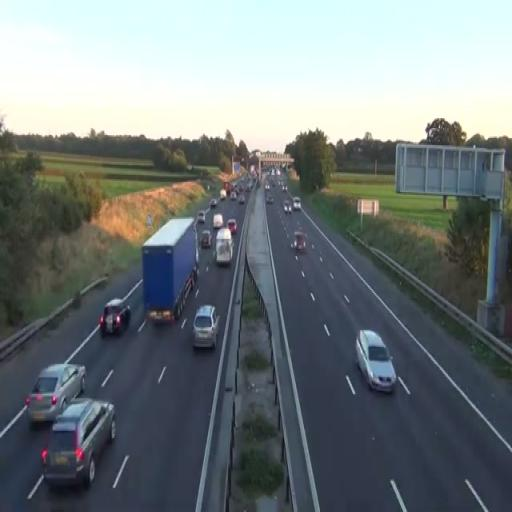Car: (40, 396, 116, 489), (25, 362, 87, 424), (355, 328, 398, 394), (192, 304, 220, 350), (100, 298, 131, 336), (200, 230, 212, 248), (228, 218, 237, 236), (293, 196, 301, 209)
Truck: (141, 216, 200, 326)
